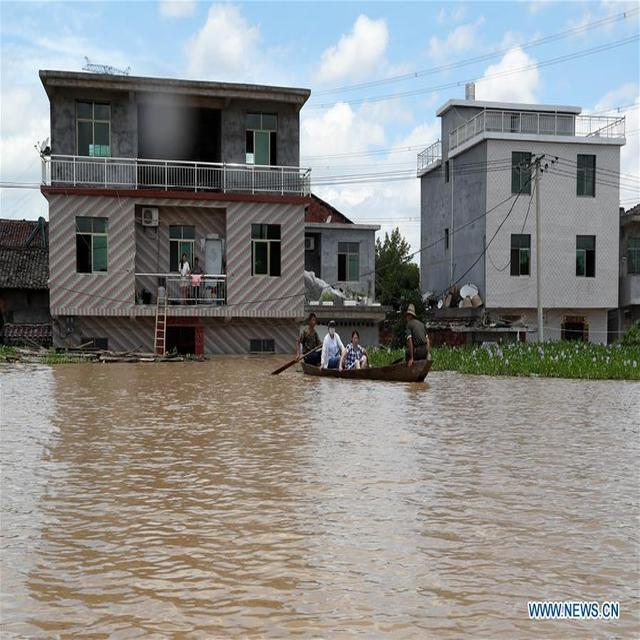Person-RiskLevel3: (398, 303, 434, 367), (296, 314, 323, 375), (319, 322, 349, 373), (340, 331, 372, 369)
